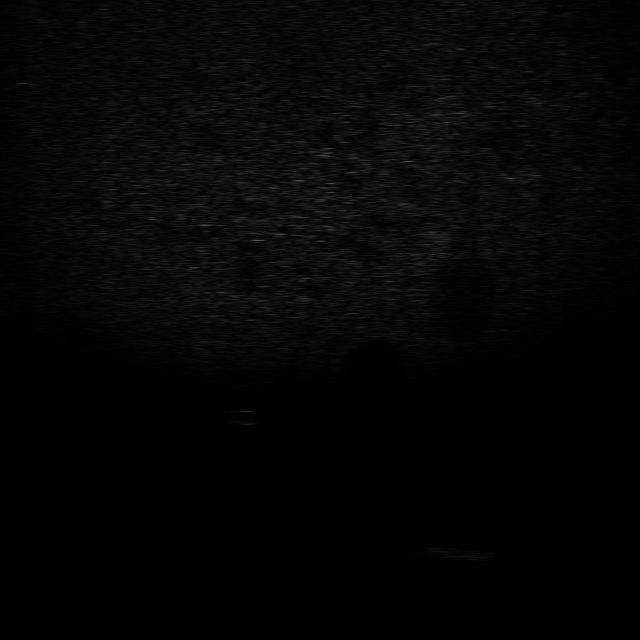ball: (220, 406, 265, 428)
metal bucket: (421, 544, 495, 564)
tyre: (361, 522, 411, 562)
